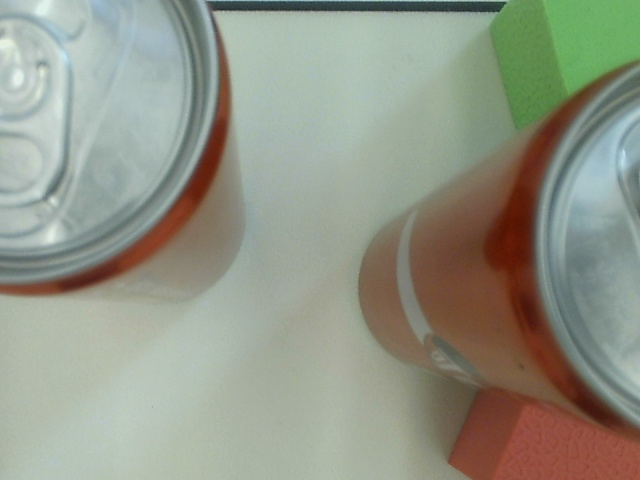cola: (354, 67, 640, 415), (1, 1, 232, 305)
greencube: (492, 1, 640, 140)
redcube: (439, 345, 640, 480)
